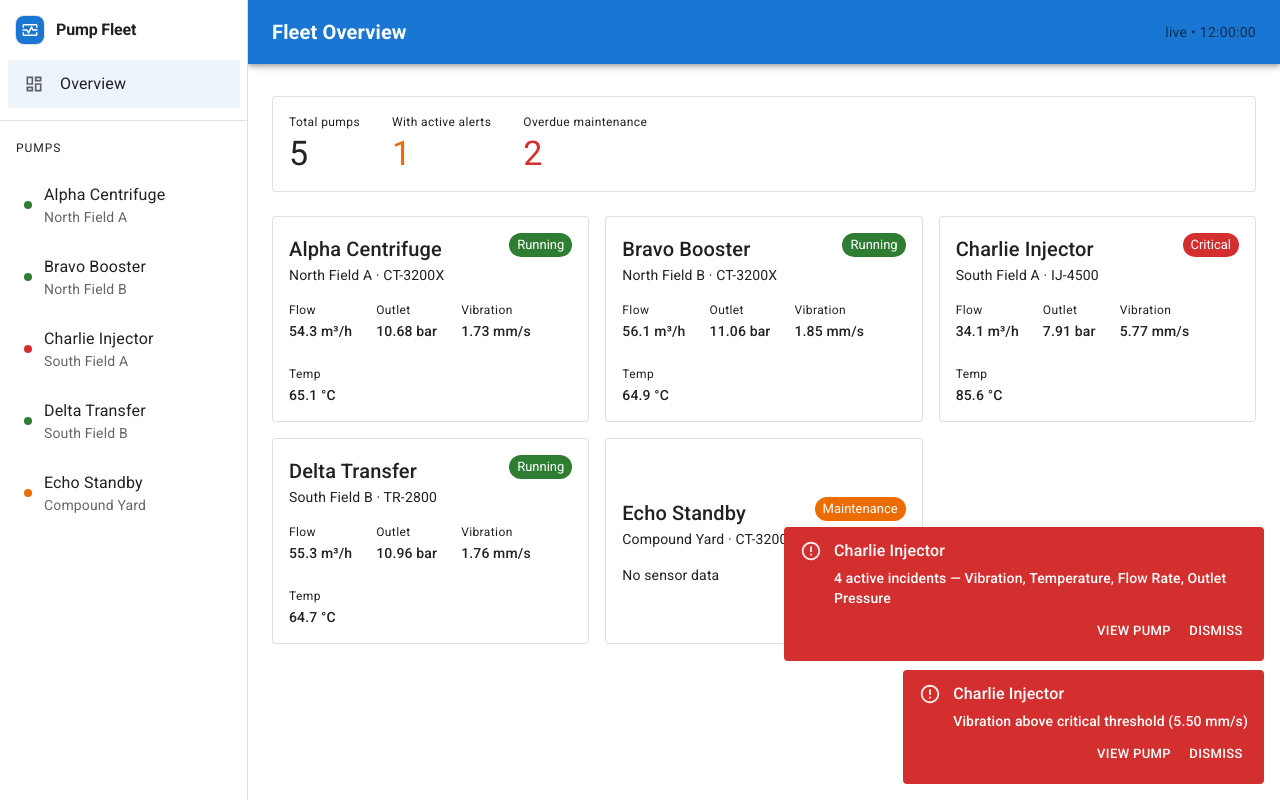
Test case: Fleet integration › surfaces a live toast and routes to the pump with a back chip when View pump is clicked
Expected: the text "Fleet Overview" is shown, [272,20,407,44]
Click the 2nd button "View pump" at (1134, 755), box [1092,739,1176,770]
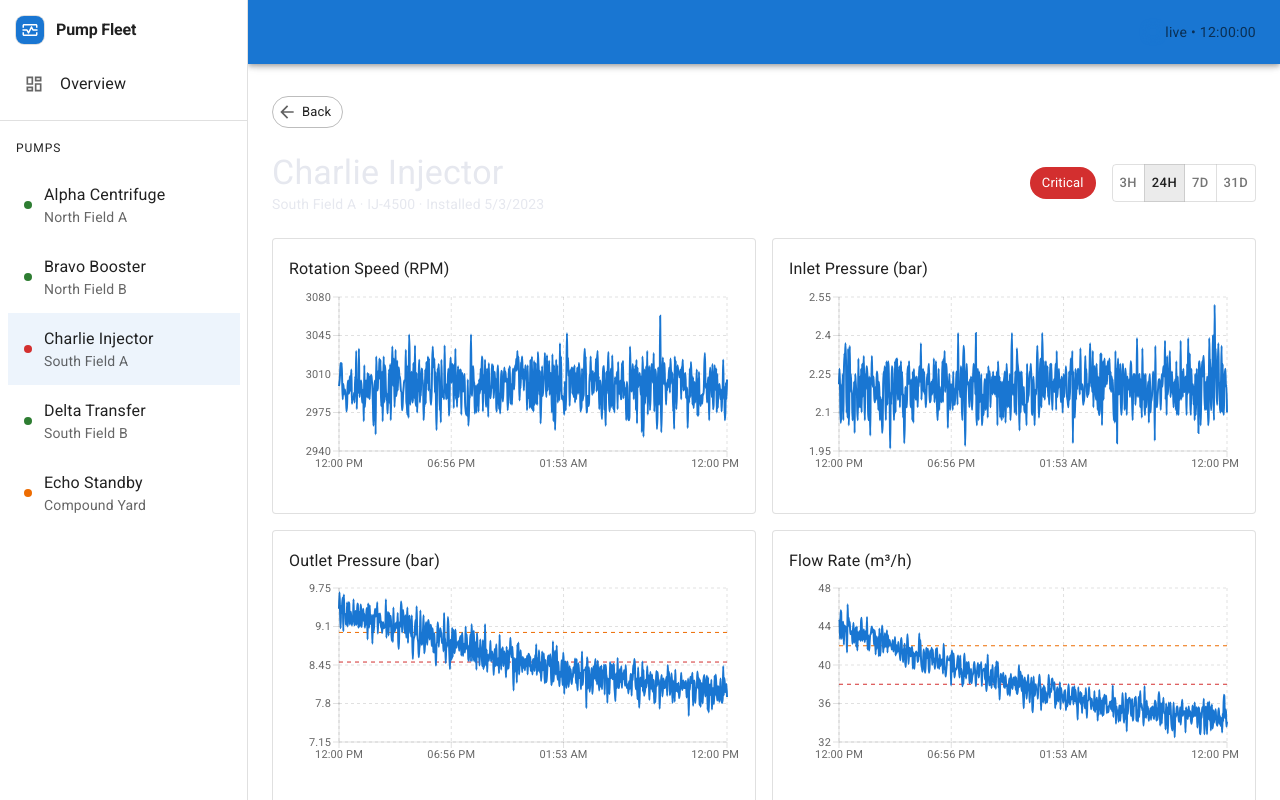
Expected: the heading "Charlie Injector" is shown, [272,152,544,194]
Result: the button with test id "back-from-alert" is shown at [272,96,343,128]
